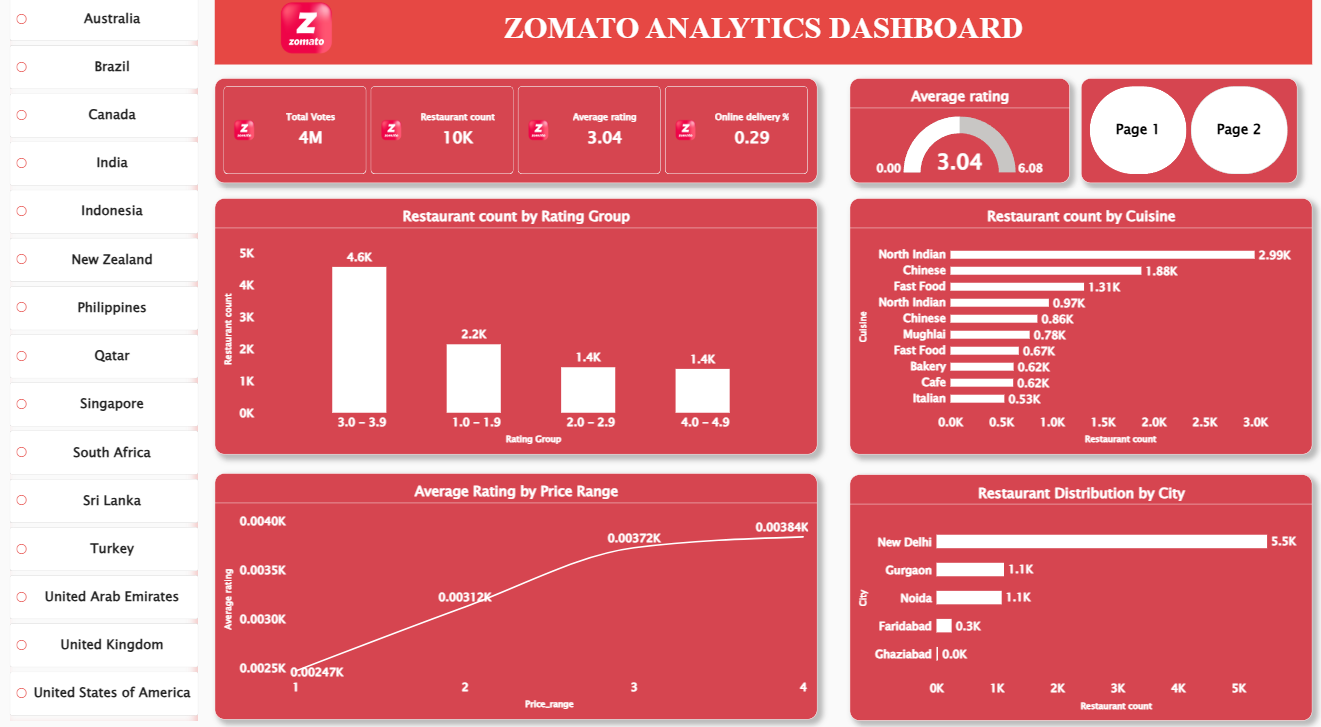

This screenshot's page, from the dashboard's own definition file:
{"tool":"powerbi","page":{"name":"Page 1","canvas":[2560,1440],"ordinal":0},"visuals":[{"type":"textbox","box":[422.3,0,2118.5,139.9],"z":0},{"type":"image","box":[513.9,9.7,170.1,119.4],"z":1000},{"type":"advancedSlicerVisual","fields":{"Values":["country table.country name"]},"box":[26.5,9.7,364.3,1397.1],"z":2000},{"type":"clusteredBarChart","title":"Restaurant Distribution by City","fields":{"Category":["Main Table.City"],"Y":["Measure table.Restaurant count"]},"box":[1648,931.4,892.8,475.3],"z":3000},{"type":"cardVisual","fields":{"Data":["Measure table.Total Votes","Measure table.Restaurant count","Measure table.Average rating","Measure table.Online delivery %"]},"box":[422.3,166.5,1163,202.7],"z":4000},{"type":"columnChart","fields":{"Category":["Main Table.Rating Group"],"Y":["Measure table.Restaurant count"]},"box":[422.3,398.1,1163,494.6],"z":5000},{"type":"clusteredBarChart","fields":{"Category":["Main Table.Cuisine"],"Y":["Measure table.Restaurant count"]},"box":[1648,398.1,892.8,494.6],"z":6000},{"type":"lineChart","title":"Average Rating by Price Range","fields":{"Category":["Main Table.Price_range"],"Y":["Measure table.Average rating"]},"box":[422.3,929,1163,475.3],"z":7000},{"type":"gauge","fields":{"Y":["Measure table.Average rating"]},"box":[1648,166.5,892.8,202.7],"z":7001}]}

Visuals, with their boxes in screenshot pixels (x1, y1, x2, y2), scaled from the page's 2560x1440 canvas onto the 1321x727 screenshot:
textbox: pyautogui.locateOnScreen(218, 0, 1311, 71)
image: pyautogui.locateOnScreen(265, 5, 353, 65)
advancedSlicerVisual - country table.country name: pyautogui.locateOnScreen(14, 5, 202, 710)
"Restaurant Distribution by City" clusteredBarChart: pyautogui.locateOnScreen(850, 470, 1311, 710)
cardVisual - Measure table.Total Votes x Measure table.Restaurant count: pyautogui.locateOnScreen(218, 84, 818, 186)
columnChart - Main Table.Rating Group x Measure table.Restaurant count: pyautogui.locateOnScreen(218, 201, 818, 451)
clusteredBarChart - Main Table.Cuisine x Measure table.Restaurant count: pyautogui.locateOnScreen(850, 201, 1311, 451)
"Average Rating by Price Range" lineChart: pyautogui.locateOnScreen(218, 469, 818, 709)
gauge - Measure table.Average rating: pyautogui.locateOnScreen(850, 84, 1311, 186)
